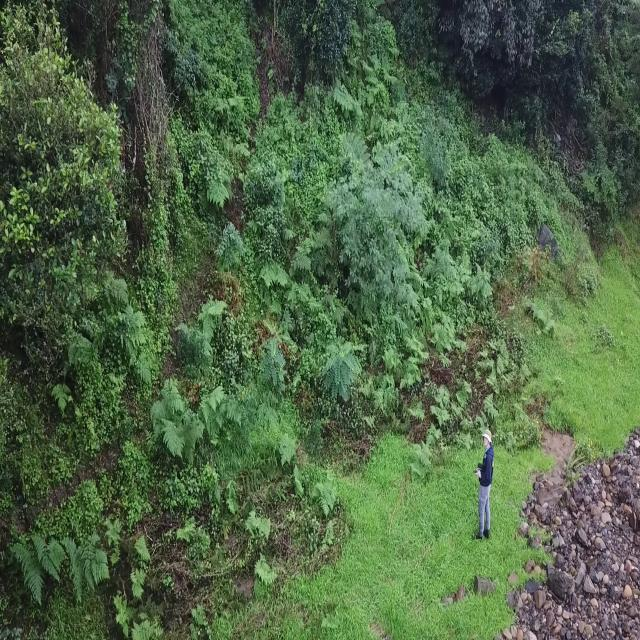Mysore-Thorn-Weed: (318, 327, 358, 403), (260, 334, 292, 390)
